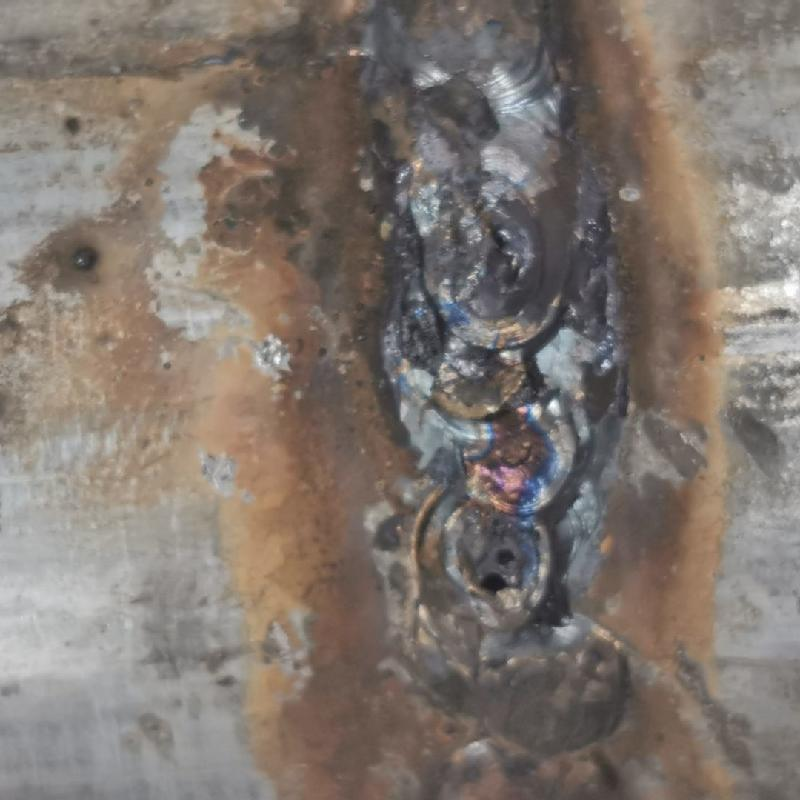Surface_pores: (466, 536, 531, 602), (469, 214, 538, 275)
crater: (397, 196, 594, 632)
wrong_size: (407, 640, 634, 798)
